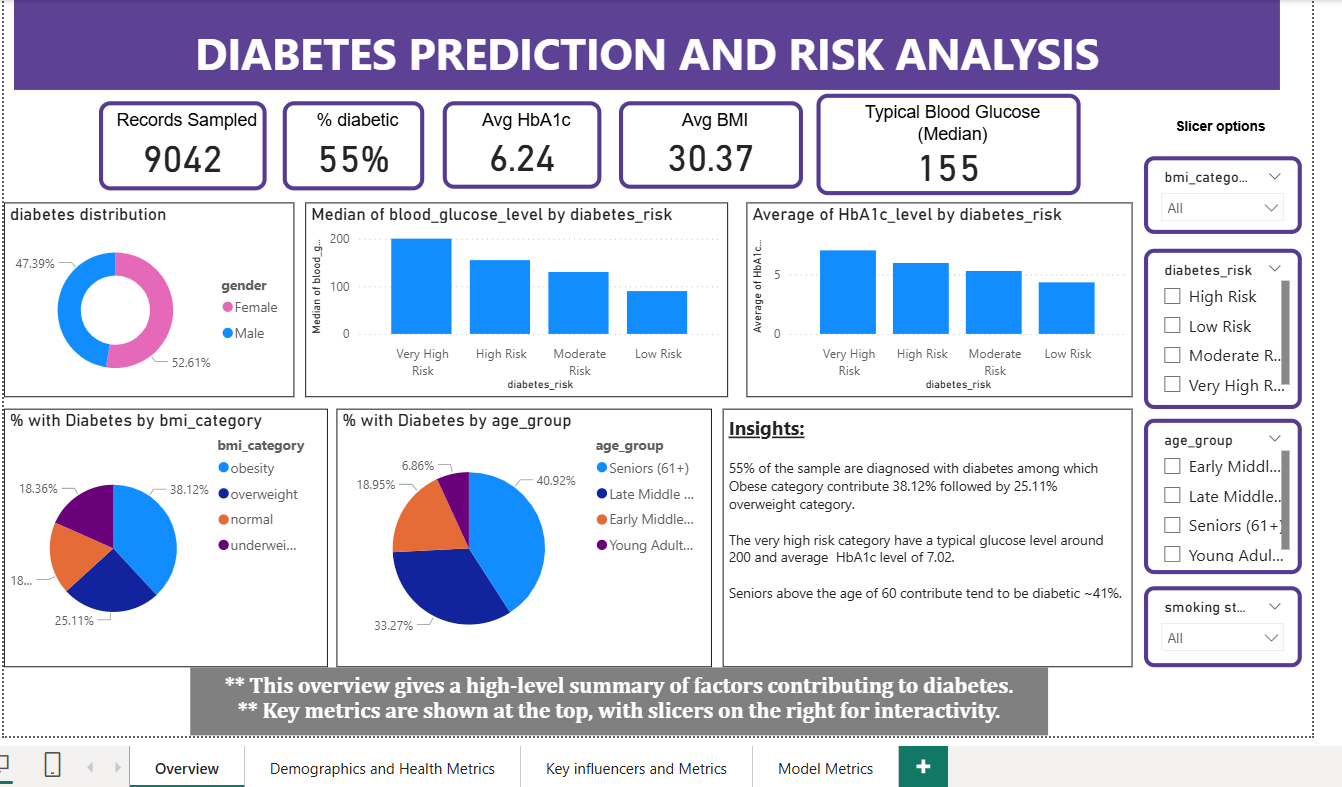

Layout of this report page (visuals, bound fields, positions):
{"tool":"powerbi","page":{"name":"Overview","canvas":[1280,720],"ordinal":0},"visuals":[{"type":"textbox","box":[9.8,0,1238.7,88],"z":0},{"type":"card","title":"Records Sampled","fields":{"Values":["diabetes_dashboard.Total Patients"]},"box":[92.9,99,163.9,86.8],"z":1000},{"type":"card","title":"% diabetic","fields":{"Values":["diabetes_dashboard.% diabetic"]},"box":[272.7,99,138.2,86.8],"z":2000},{"type":"card","title":"Avg HbA1c","fields":{"Values":["Avg(diabetes_dashboard.HbA1c_level)"]},"box":[429.2,99,155.3,85.6],"z":3000},{"type":"card","title":"Typical Blood Glucose (Median)","fields":{"Values":["Median(diabetes_dashboard.blood_glucose_level)"]},"box":[794.8,91.7,258,99],"z":4000},{"type":"card","title":"Avg BMI","fields":{"Values":["Avg(diabetes_dashboard.bmi)"]},"box":[601.6,99,179.8,85.6],"z":5000},{"type":"textbox","box":[182.2,653,838.9,66],"z":6000},{"type":"donutChart","title":"diabetes distribution","fields":{"Category":["diabetes_dashboard.gender"],"Y":["Sum(diabetes_dashboard.diabetes)"]},"box":[0,198.1,283.7,190.8],"z":7000},{"type":"lineClusteredColumnComboChart","fields":{"Category":["diabetes_dashboard.diabetes_risk"],"Y":["Median(diabetes_dashboard.blood_glucose_level)"]},"box":[294.7,198.1,413.3,190.8],"z":8000},{"type":"pieChart","fields":{"Category":["diabetes_dashboard.bmi_category"],"Y":["diabetes_dashboard.% with Diabetes"]},"box":[0,399.9,316.7,253.1],"z":9000},{"type":"slicer","fields":{"Values":["diabetes_dashboard.bmi_category"]},"box":[1115.2,152.9,154.1,75.8],"z":10000},{"type":"slicer","fields":{"Values":["diabetes_dashboard.smoking_binned"]},"box":[1115.2,573.5,154.1,79.5],"z":11000},{"type":"slicer","fields":{"Values":["diabetes_dashboard.diabetes_risk"]},"box":[1115.2,243.3,154.1,156.5],"z":12000},{"type":"slicer","fields":{"Values":["diabetes_dashboard.age_group"]},"box":[1115.2,409.6,154.1,151.6],"z":13000},{"type":"textbox","box":[1115.2,91.7,149.2,52.6],"z":14000},{"type":"lineClusteredColumnComboChart","fields":{"Category":["diabetes_dashboard.diabetes_risk"],"Y":["Avg(diabetes_dashboard.HbA1c_level)"]},"box":[726.4,198.1,377.9,190.8],"z":15000},{"type":"textbox","box":[703.1,399.9,401.1,253.1],"z":16000},{"type":"pieChart","fields":{"Y":["diabetes_dashboard.% with Diabetes"],"Category":["diabetes_dashboard.age_group"]},"box":[325.3,399.9,366.8,253.1],"z":17000}]}

Visuals, with their boxes in screenshot pixels (x1, y1, x2, y2):
textbox: region(3, 0, 1284, 81)
"Records Sampled" card: region(89, 92, 259, 182)
"% diabetic" card: region(275, 92, 418, 182)
"Avg HbA1c" card: region(437, 92, 597, 180)
"Typical Blood Glucose (Median)" card: region(815, 84, 1082, 187)
"Avg BMI" card: region(615, 92, 801, 180)
textbox: region(181, 665, 1049, 733)
"diabetes distribution" donutChart: region(0, 194, 286, 392)
lineClusteredColumnComboChart - diabetes_dashboard.diabetes_risk x Median(diabetes_dashboard.blood_glucose_level): region(298, 194, 725, 392)
pieChart - diabetes_dashboard.bmi_category x diabetes_dashboard.% with Diabetes: region(0, 403, 320, 665)
slicer - diabetes_dashboard.bmi_category: region(1146, 148, 1305, 226)
slicer - diabetes_dashboard.smoking_binned: region(1146, 582, 1305, 665)
slicer - diabetes_dashboard.diabetes_risk: region(1146, 241, 1305, 403)
slicer - diabetes_dashboard.age_group: region(1146, 413, 1305, 570)
textbox: region(1146, 84, 1300, 139)
lineClusteredColumnComboChart - diabetes_dashboard.diabetes_risk x Avg(diabetes_dashboard.HbA1c_level): region(744, 194, 1135, 392)
textbox: region(720, 403, 1135, 665)
pieChart - diabetes_dashboard.% with Diabetes x diabetes_dashboard.age_group: region(329, 403, 709, 665)
